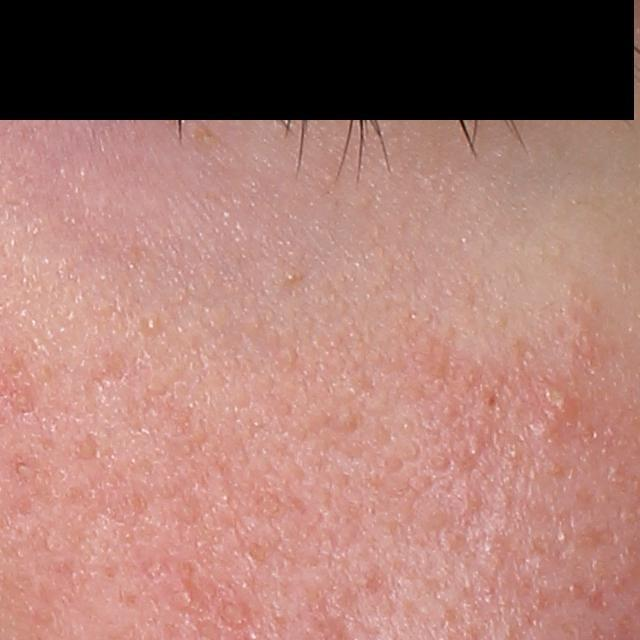comedo: (284, 271, 296, 283)
papule: (542, 387, 570, 420)
